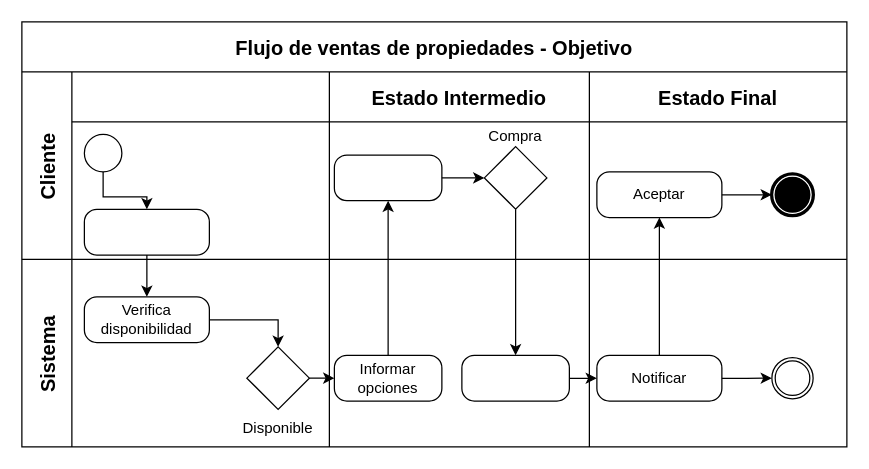
This 869x469 diagram has some shape labels left out. Here are the shapes that lost their labels. From the top down, the centre of each, then its label:
point (387, 177): Seleccionar opcion
point (146, 231): Solicita propiedades
point (515, 377): Ingresa compra
